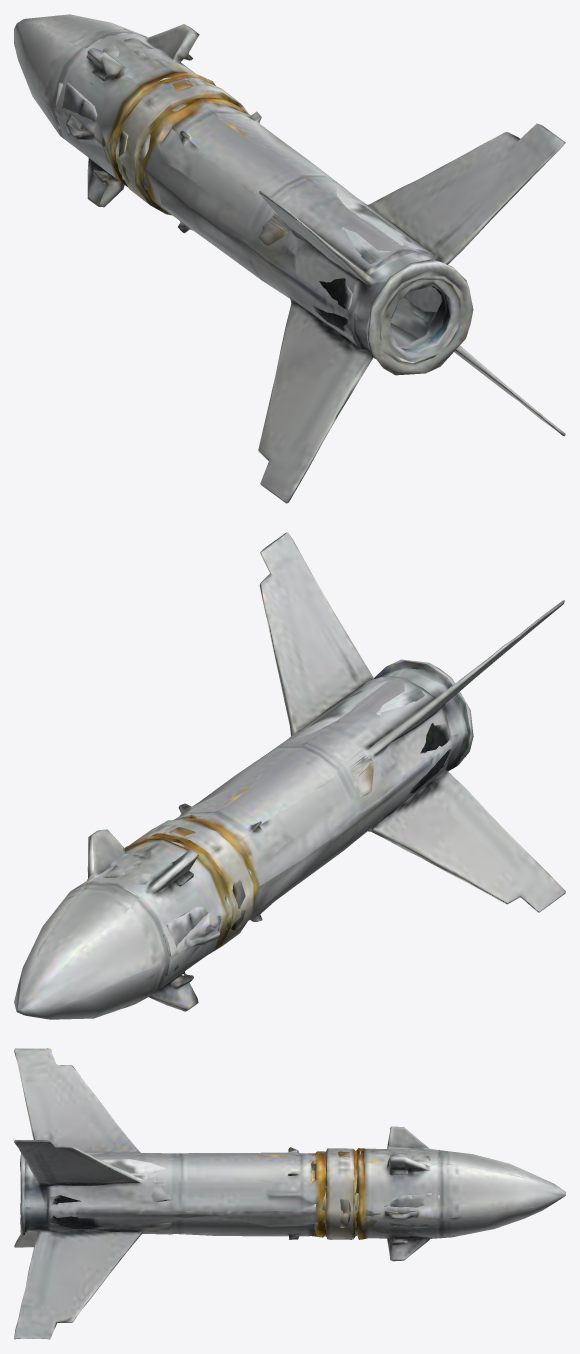
The picture shows the model from 3 angles, top to bottom: view 1: azimuth 30°, elevation 25°; view 2: azimuth 150°, elevation 25°; view 3: azimuth 270°, elevation 25°; orthographic projection. The views are drawn at different scales.
Bounding box in the file's own units: 0.3987 × 0.3994 × 1.
Materials: 1 (1 with a texture image).
